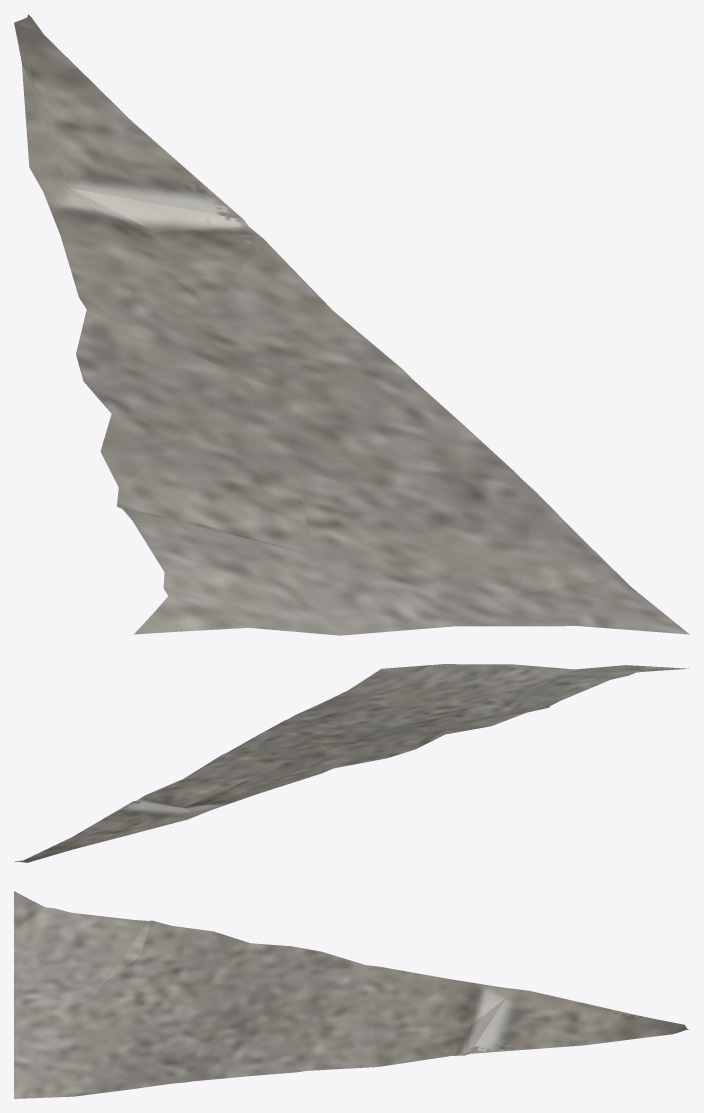
The picture shows the model from 3 angles, top to bottom: view 1: azimuth 30°, elevation 25°; view 2: azimuth 150°, elevation 25°; view 3: azimuth 270°, elevation 25°; orthographic projection. The views are drawn at different scales.
Size of the model in its own units: 0.777 by 0.1812 by 1.6.
Materials: 1 (1 with a texture image).
